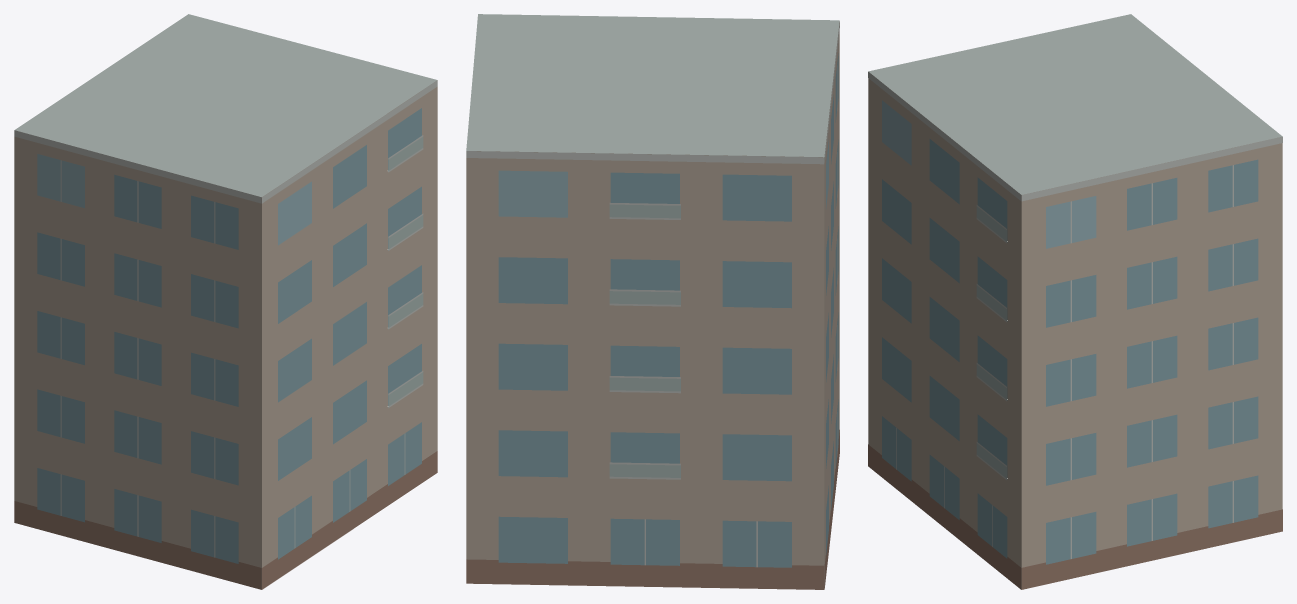
Rendered from survey-upis-32840237.glb.
3 renders of one model, left to right at view 1: azimuth 30°, elevation 25°; view 2: azimuth 150°, elevation 25°; view 3: azimuth 270°, elevation 25°, orthographic. The views are drawn at different scales.
Visible parts, largest first — view 1: survey-upis-32840237.tmp; view 2: survey-upis-32840237.tmp; view 3: survey-upis-32840237.tmp.
Part boxes in pixels (x1=…): survey-upis-32840237.tmp: x1=14, y1=14, x2=437, y2=589; survey-upis-32840237.tmp: x1=466, y1=14, x2=839, y2=589; survey-upis-32840237.tmp: x1=868, y1=14, x2=1282, y2=589.
Size of the model in its own units: 14.66 by 14.9 by 14.19.
